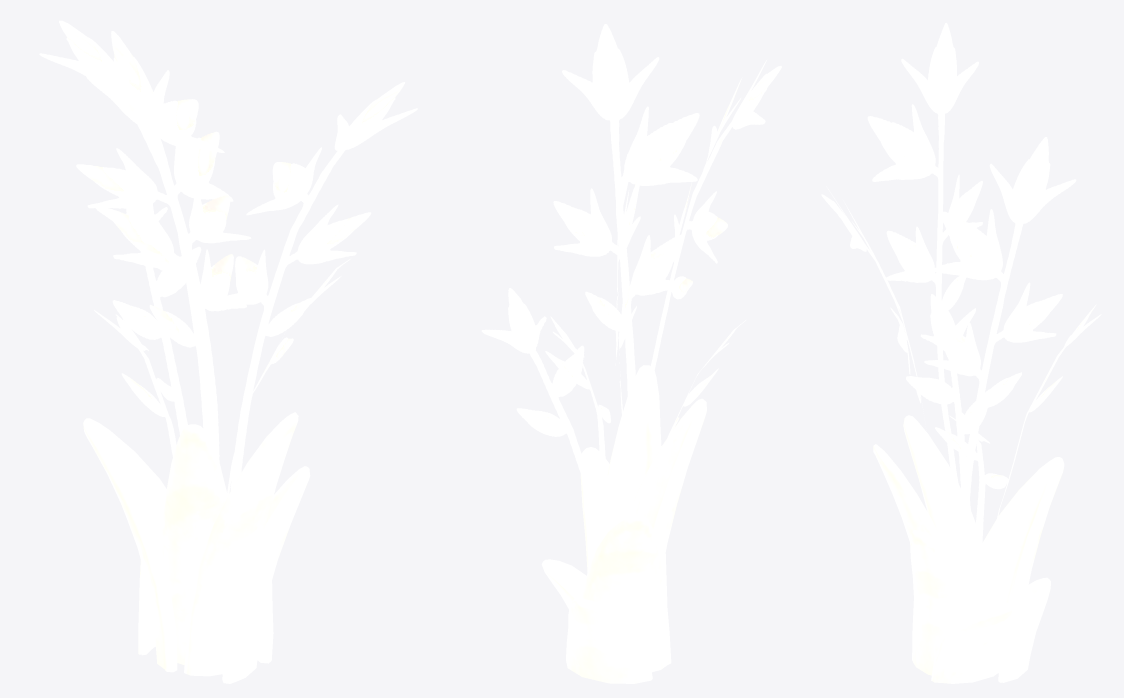
3 renders of one model, left to right at view 1: azimuth 30°, elevation 25°; view 2: azimuth 150°, elevation 25°; view 3: azimuth 270°, elevation 25°, orthographic. The views are drawn at different scales.
Parts seen in each view (by area): view 1: SM_Desert_Weed_LOD0; view 2: SM_Desert_Weed_LOD0; view 3: SM_Desert_Weed_LOD0.
Part boxes in pixels (bbox=[...]): SM_Desert_Weed_LOD0: bbox=[39, 20, 417, 683]; SM_Desert_Weed_LOD0: bbox=[481, 24, 781, 683]; SM_Desert_Weed_LOD0: bbox=[821, 23, 1101, 683].
Bounding box in the file's own units: 0.5985 × 1.16 × 0.5325.
Materials: 1 (1 with a texture image).
